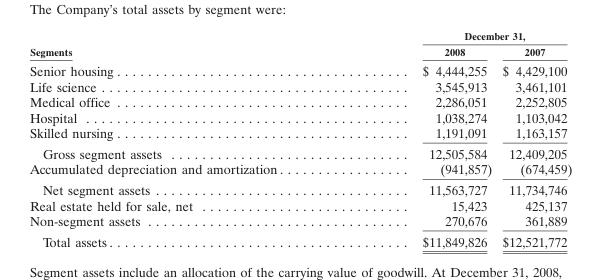table: (28, 29, 571, 249)
table column: (28, 29, 351, 249), (351, 29, 496, 249), (496, 29, 571, 249)
table column header: (28, 29, 571, 59)
table row: (28, 59, 571, 78), (28, 142, 571, 161), (28, 230, 571, 249), (28, 124, 571, 142), (28, 161, 571, 179), (28, 179, 571, 197), (28, 212, 571, 230), (28, 43, 571, 59), (28, 93, 571, 109), (28, 78, 571, 93), (28, 109, 571, 124), (28, 197, 571, 212), (28, 29, 571, 43)
table spanning cell: (28, 29, 351, 59), (351, 29, 571, 43)
